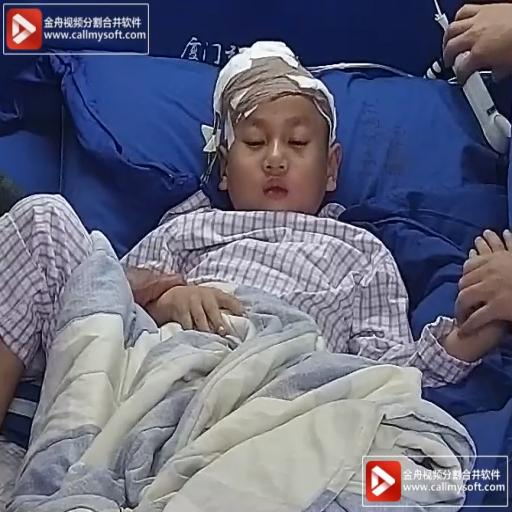Seizure: (224, 56, 350, 220)
